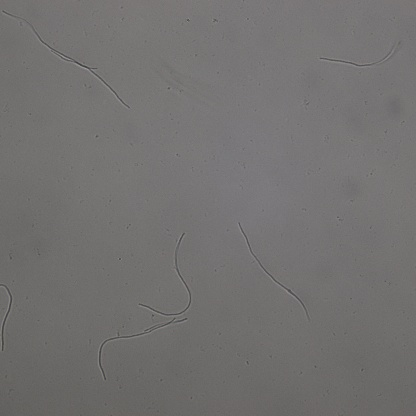Sensitive: (239, 223, 310, 321), (96, 318, 185, 380), (4, 12, 97, 70), (138, 233, 193, 315), (51, 52, 128, 107), (319, 42, 398, 68), (1, 280, 14, 351)
